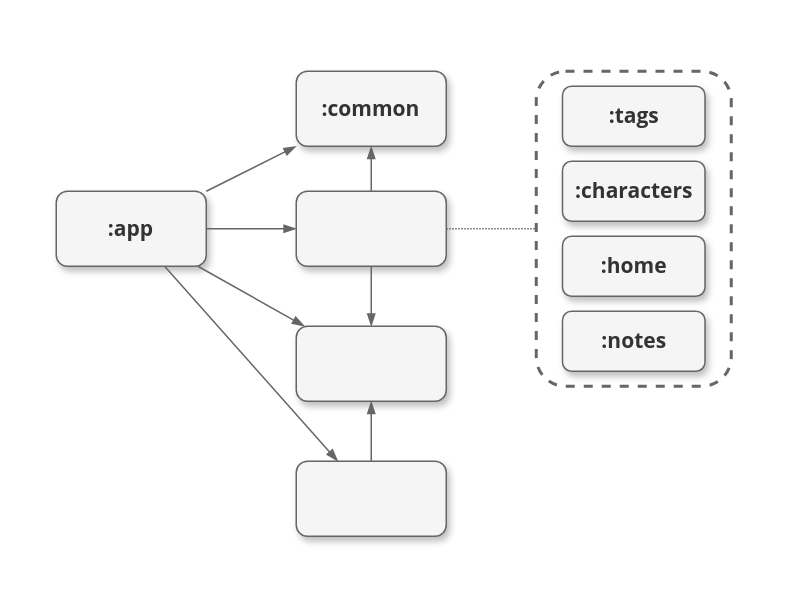
Some shapes in this 801 by 591 pixel diagram are drawn without their labels. The centre of each missing label's shape, as x and y in pixels:
:data: pixel 372 500
:domain: pixel 372 365
:presentation: pixel 372 230
